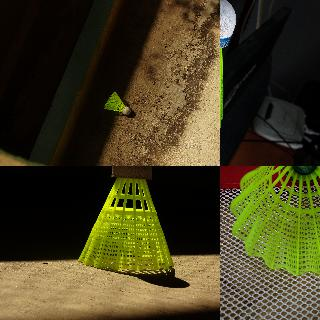shuttlecock: (79, 166, 174, 271), (230, 166, 319, 275), (104, 92, 130, 115)
